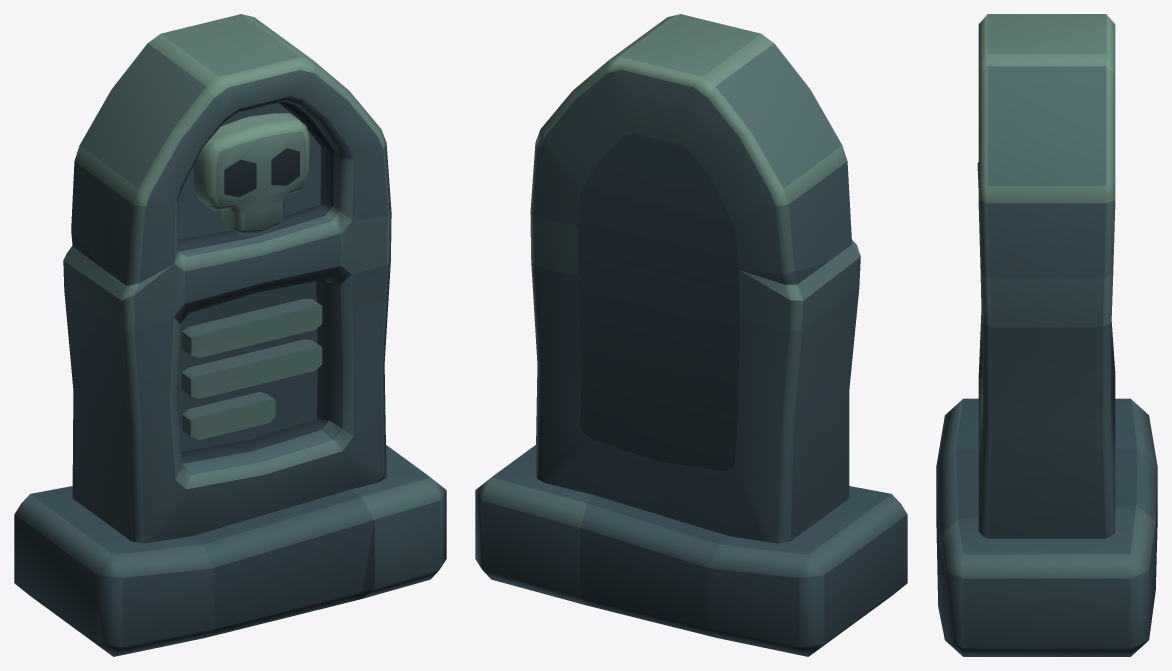
The model's file is grave_stone_3_LOD_setup.fbx.
3 views of the same model, side by side, from view 1: azimuth 30°, elevation 25°; view 2: azimuth 150°, elevation 25°; view 3: azimuth 270°, elevation 25° (orthographic).
Visible parts, largest first — view 1: grave_stone_3_LOD0; view 2: grave_stone_3_LOD0; view 3: grave_stone_3_LOD0.
Part boxes in pixels (box(x1,y1,x2,y2)): grave_stone_3_LOD0: box(14, 14, 446, 656); grave_stone_3_LOD0: box(475, 14, 907, 656); grave_stone_3_LOD0: box(936, 14, 1157, 656).
Size of what is drawn, in the model's own units: 132 by 195 by 71.74.
